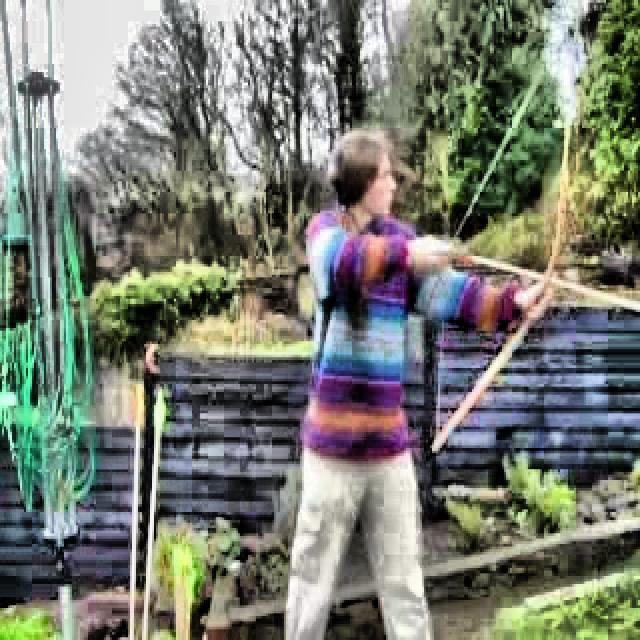I: (273, 90, 565, 637)
